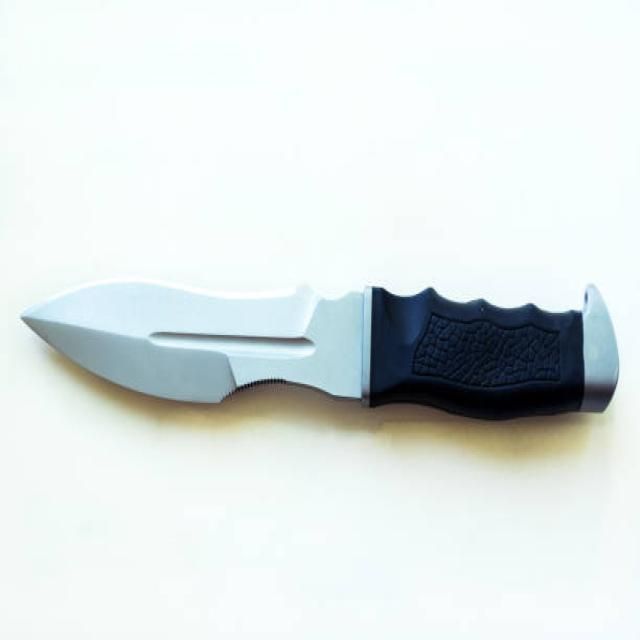knife: (19, 267, 624, 451)
